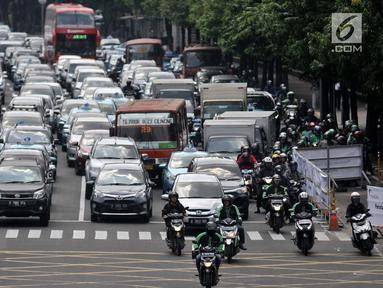plate: (190, 218, 207, 224), (9, 200, 25, 206), (296, 218, 310, 224), (111, 203, 126, 208), (200, 252, 213, 257), (170, 218, 182, 223), (221, 227, 235, 231), (271, 199, 282, 204), (141, 164, 152, 169), (355, 220, 365, 225), (263, 185, 270, 190)
